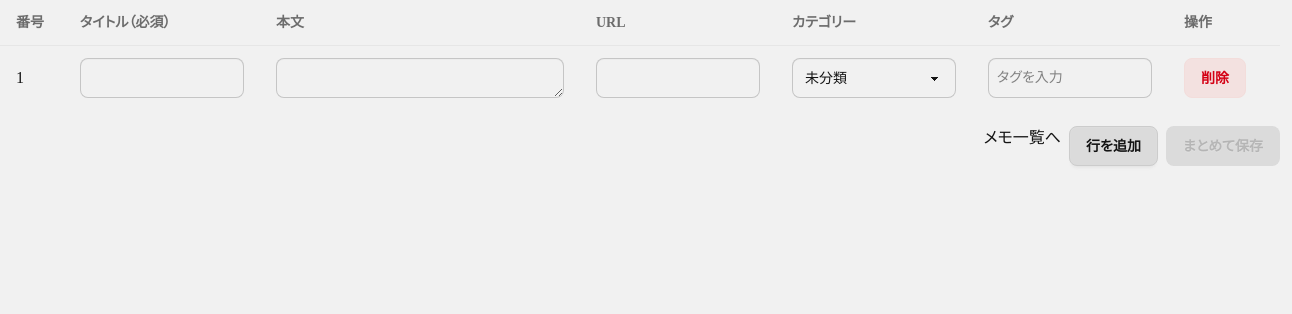
Scenario: メモの一括入力 › 末尾への入力で空行を一度だけ追加し、入力を消しても行を削除しない
Type "入力" into the 1st field named "タイトル（必須）" at point(162, 78), box [80,58,244,98]
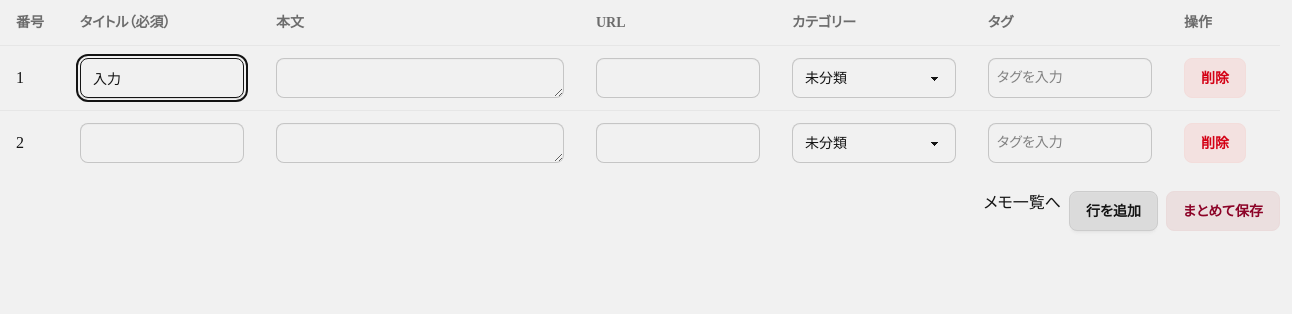
Result: the row named "メモ2" is shown at [0,111,1280,175]
Replace the text in the 1st field named "タイトル（必須）" with "追加入力" at point(162, 78), box [80,58,244,98]
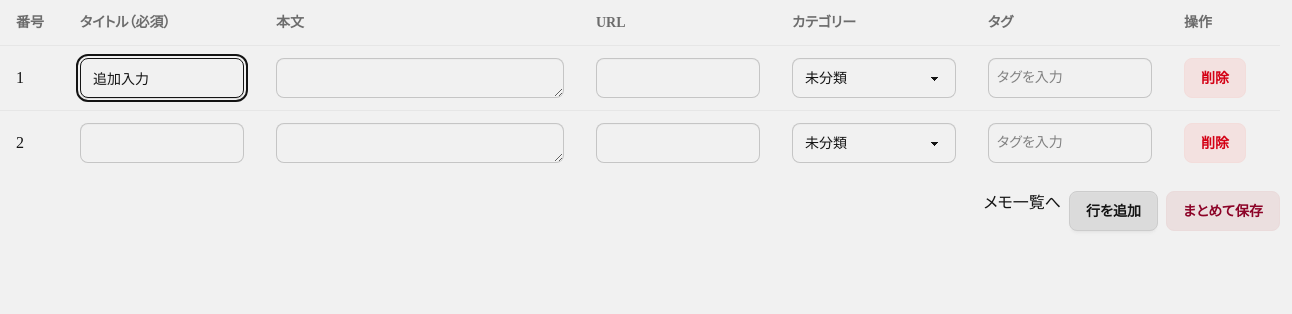
Clear the 1st field named "タイトル（必須）" at point(162, 78), box [80,58,244,98]
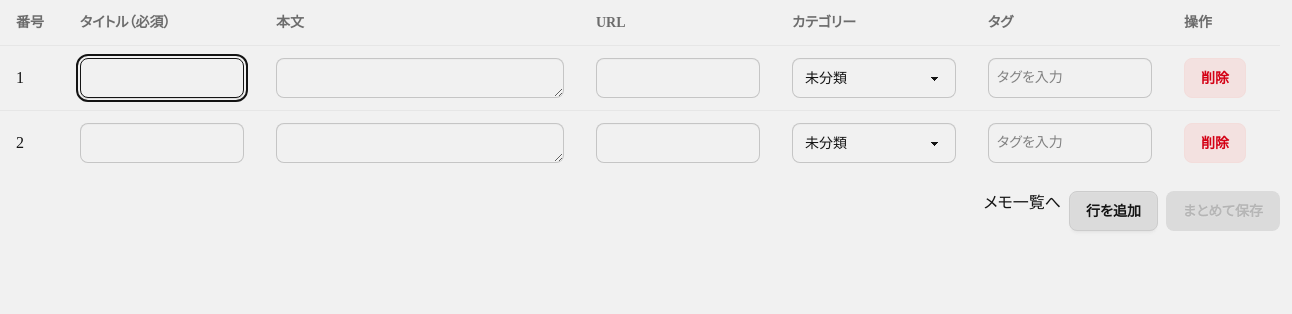
Result: the row named "メモ2" is shown at [0,111,1280,175]
Type "次の入力" into the 3rd field named "タイトル（必須）" at point(162, 143), box [80,123,244,163]
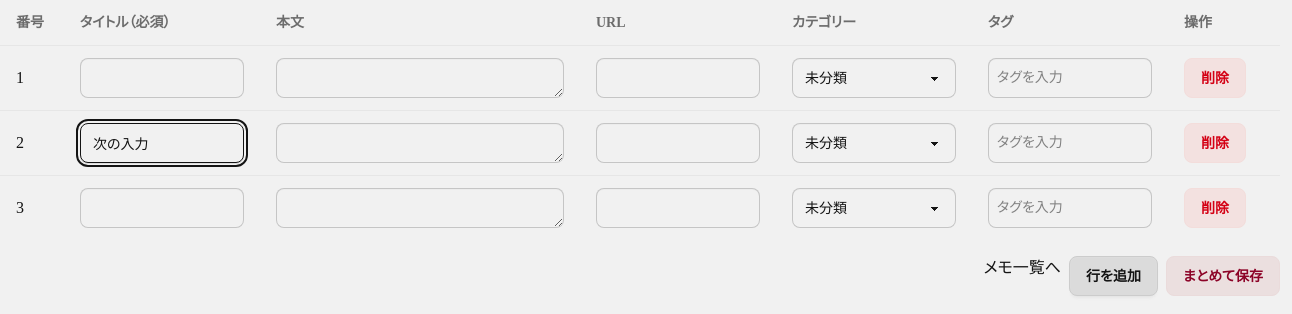
Result: the row named "メモ3" is shown at [0,176,1280,240]
